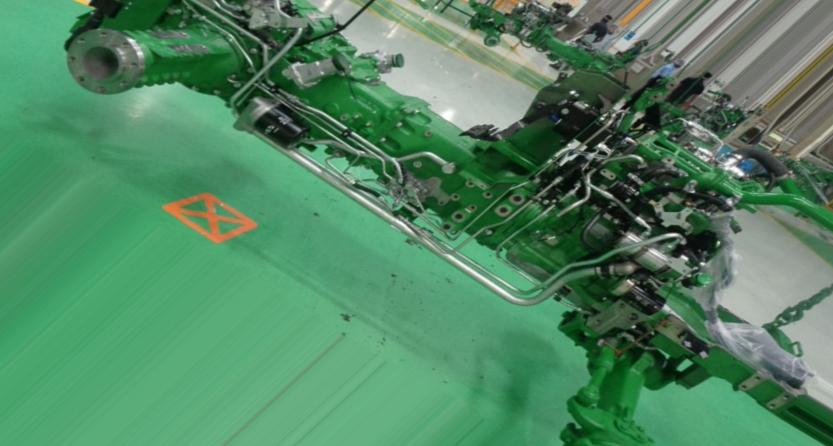engine: (63, 0, 833, 446)
